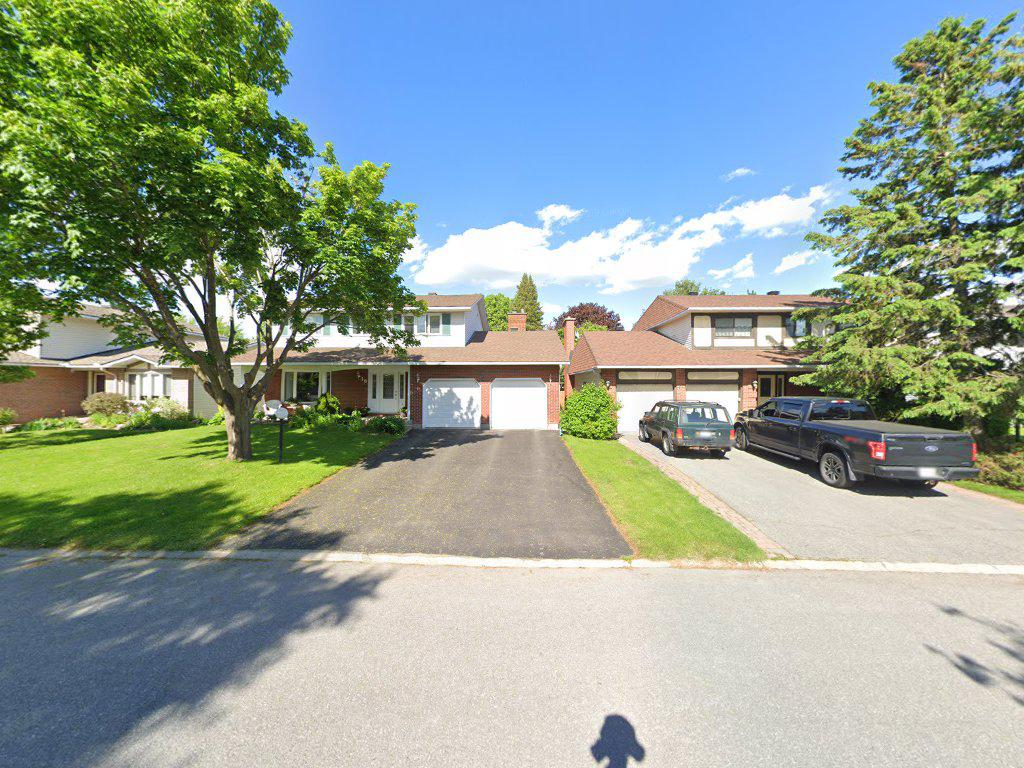trunk: (202, 338, 278, 476)
